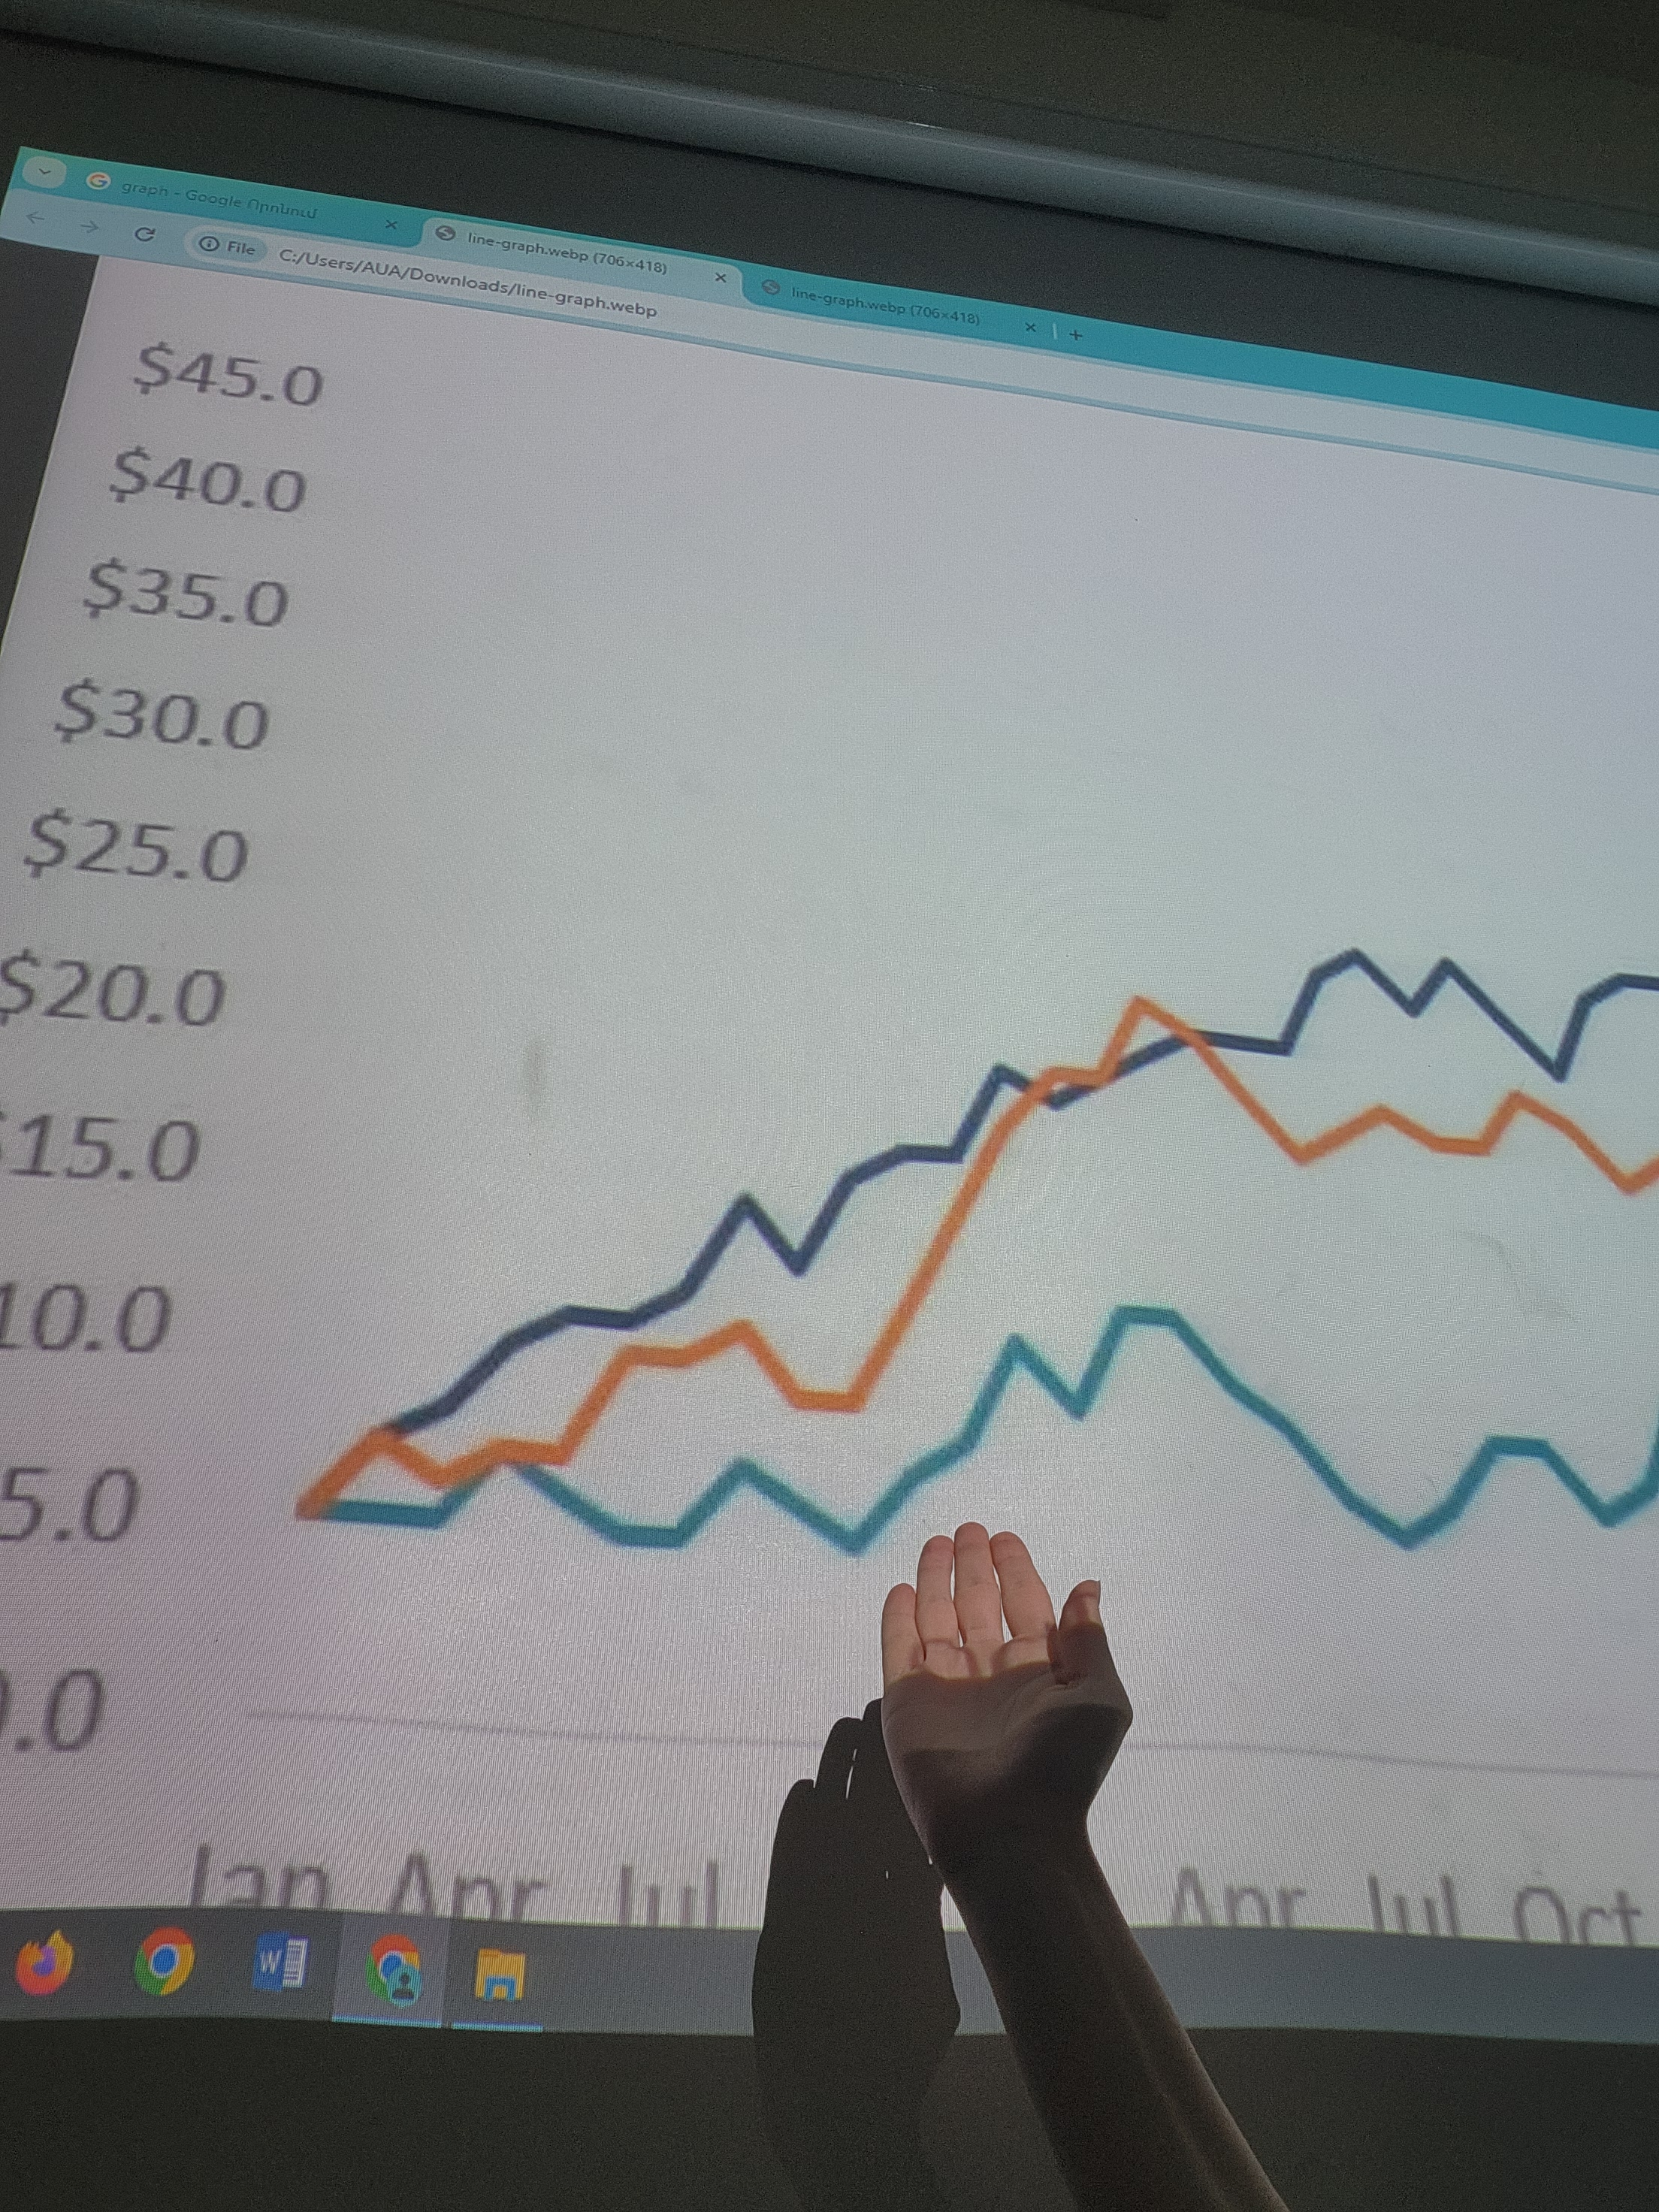pointing_gesture: (873, 1515, 1133, 1897)
